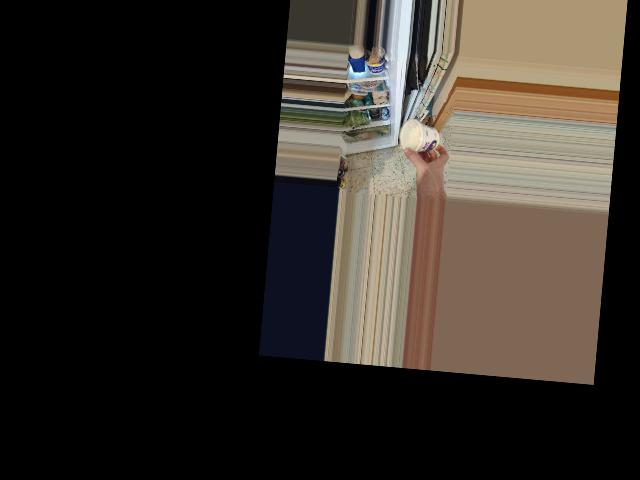cotage: (399, 119, 443, 158)
